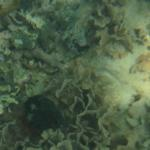alive: (6, 3, 147, 147)
